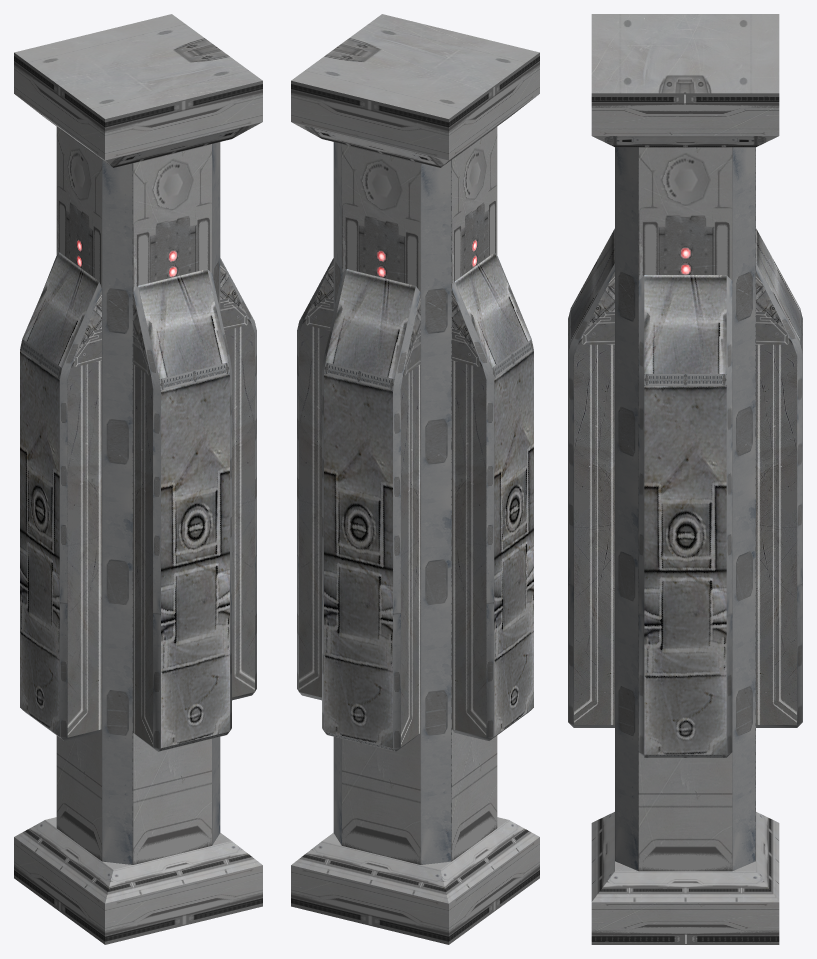
The model's file is SM_PillarsB_b.fbx.
The picture shows the model from 3 angles, left to right: view 1: azimuth 30°, elevation 25°; view 2: azimuth 150°, elevation 25°; view 3: azimuth 270°, elevation 25°; orthographic projection. The views are drawn at different scales.
Parts seen in each view (by area): view 1: SM_PillarsB_b_LOD0; view 2: SM_PillarsB_b_LOD0; view 3: SM_PillarsB_b_LOD0.
Boxes of the visible parts, left/top/right/bottom form: SM_PillarsB_b_LOD0: left=14, top=14, right=262, bottom=944; SM_PillarsB_b_LOD0: left=291, top=14, right=539, bottom=944; SM_PillarsB_b_LOD0: left=568, top=14, right=802, bottom=944.
Bounding box in the file's own units: 100 × 100 × 400.
3 materials, 3 textured.
